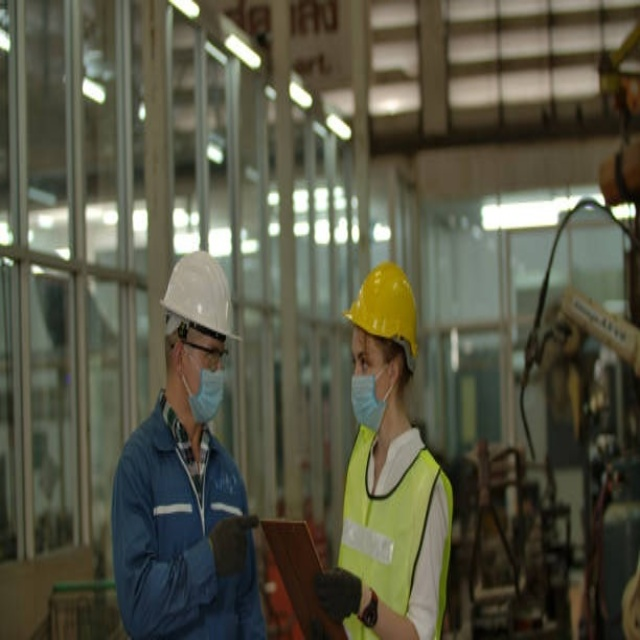Gafas: (176, 339, 225, 374)
Guantes: (209, 513, 259, 577), (313, 567, 363, 623)
Mascara: (351, 358, 395, 434), (181, 350, 226, 424)
Sin_gafas: (350, 342, 387, 374)
